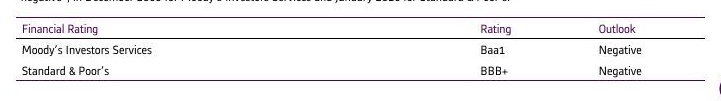table: (0, 0, 721, 101)
